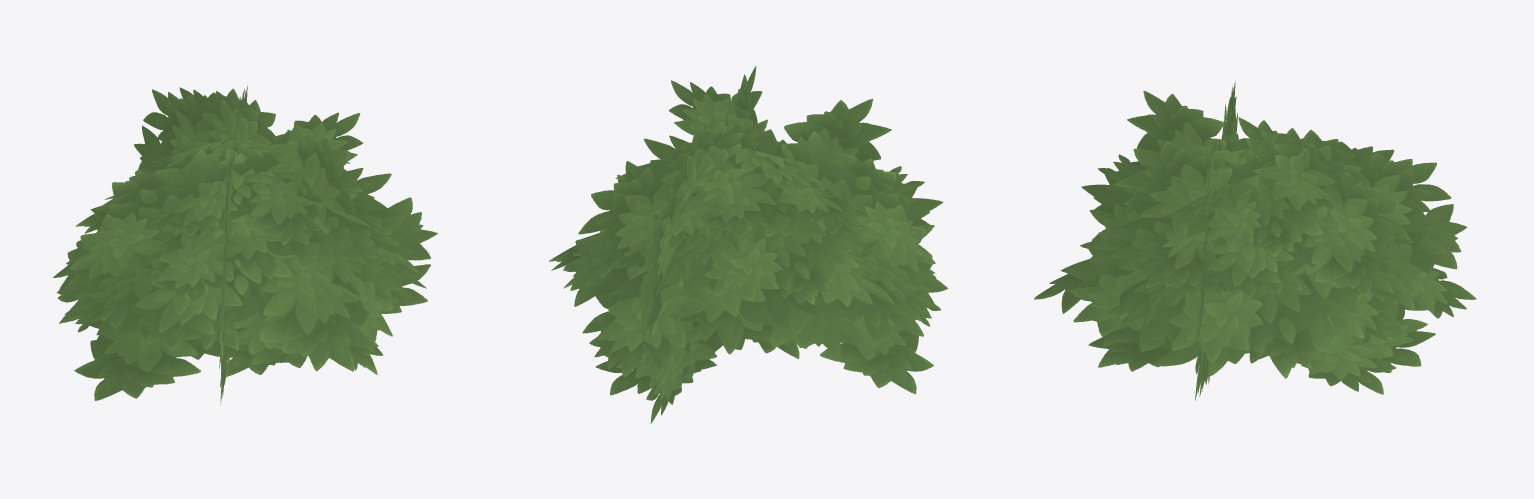
Rendered from bush.fbx.
3 renders of one model, left to right at view 1: azimuth 30°, elevation 25°; view 2: azimuth 150°, elevation 25°; view 3: azimuth 270°, elevation 25°, orthographic. The views are drawn at different scales.
Parts seen in each view (by area): view 1: paraply1.002; view 2: paraply1.002; view 3: paraply1.002.
Boxes of the visible parts, x1=… form: paraply1.002: x1=53, y1=85, x2=437, y2=405; paraply1.002: x1=549, y1=66, x2=947, y2=423; paraply1.002: x1=1034, y1=81, x2=1476, y2=400.
Bounding box in the file's own units: 218 × 131 × 216.
